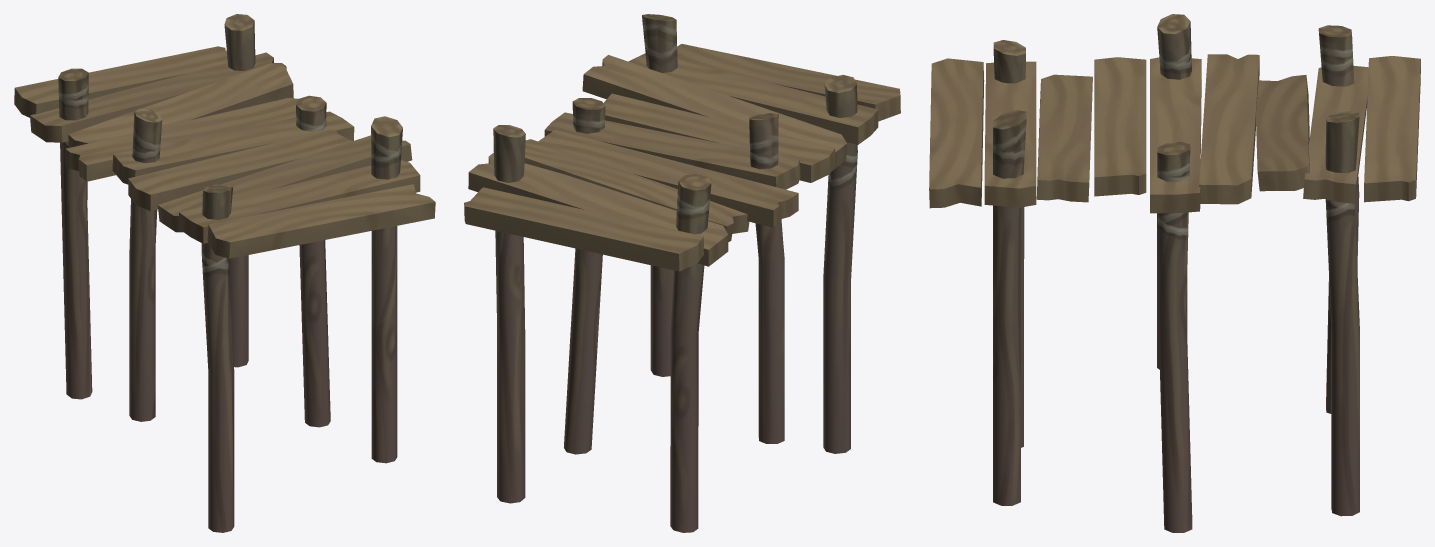
Rendered from docks4x6_mesh.fbx.
3 views of the same model, side by side, from view 1: azimuth 30°, elevation 25°; view 2: azimuth 150°, elevation 25°; view 3: azimuth 270°, elevation 25° (orthographic). The views are drawn at different scales.
Parts seen in each view (by area): view 1: docks4x6_mesh; view 2: docks4x6_mesh; view 3: docks4x6_mesh.
Part boxes in pixels (x1,y1,x2,y2): docks4x6_mesh: (14,14,435,532); docks4x6_mesh: (464,14,900,532); docks4x6_mesh: (929,14,1420,532).
Size of the model in its own units: 3.7 by 5.11 by 5.38.
